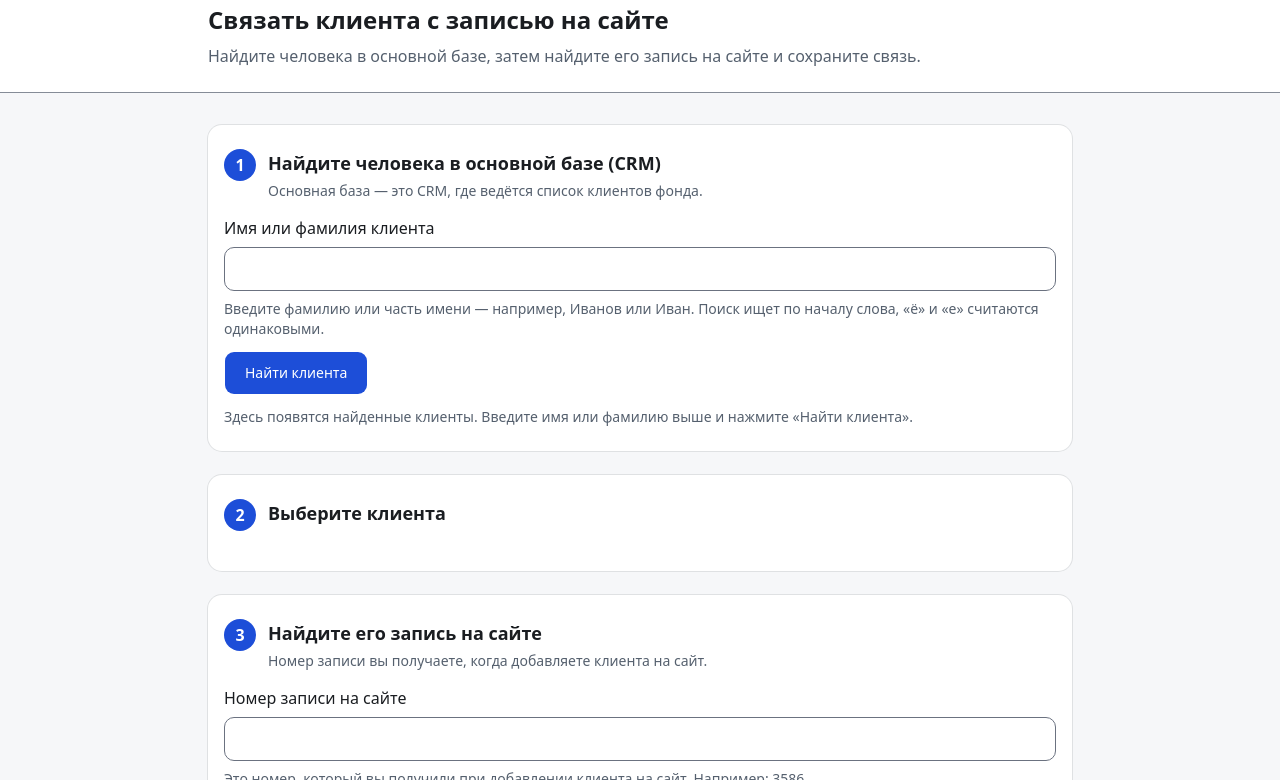
Test: запоздавшие ответы поиска записи на сайте › результат последнего запроса применяется
Type "Иванов" into the field labelled "Имя или фамилия клиента" at (640, 269), box [224,247,1056,291]
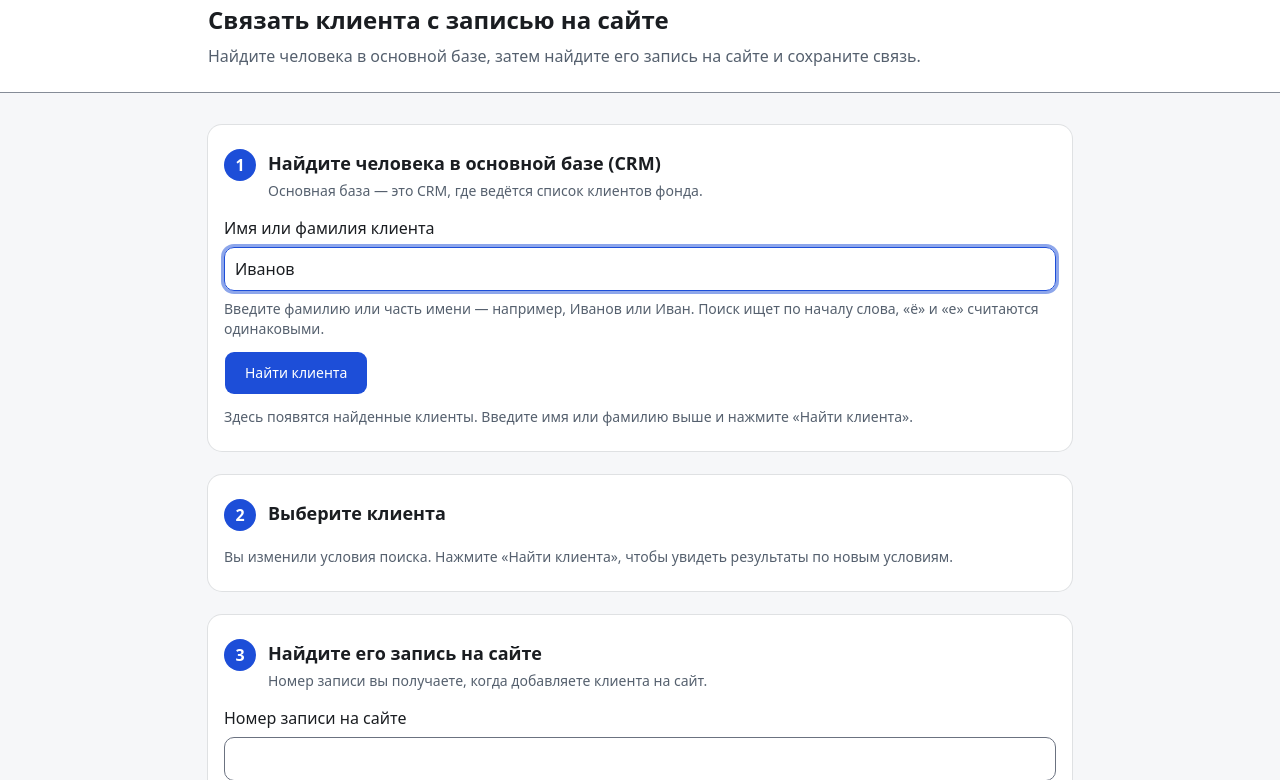
Click the button "Найти клиента" at (296, 373), box [224,351,368,395]
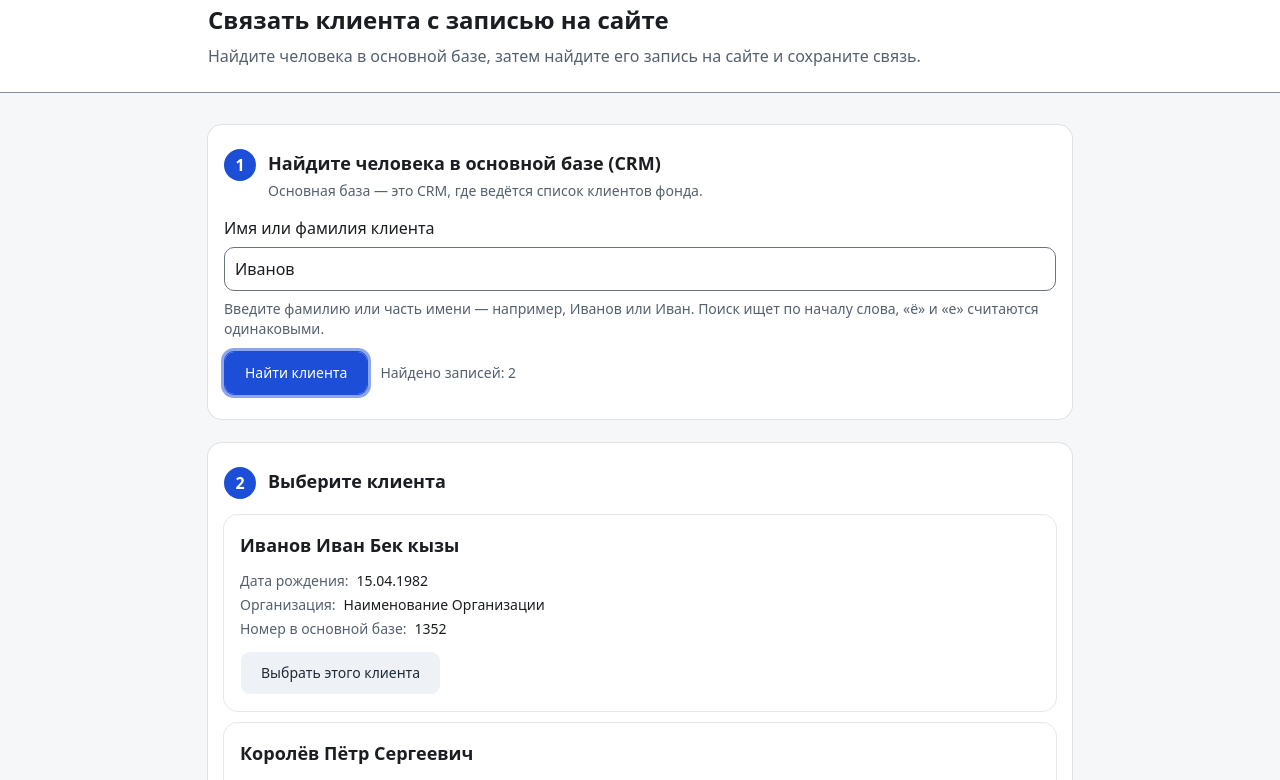
Click the button "Выбрать этого клиента" at (341, 673), box [240,651,441,695]
(page scrolled)
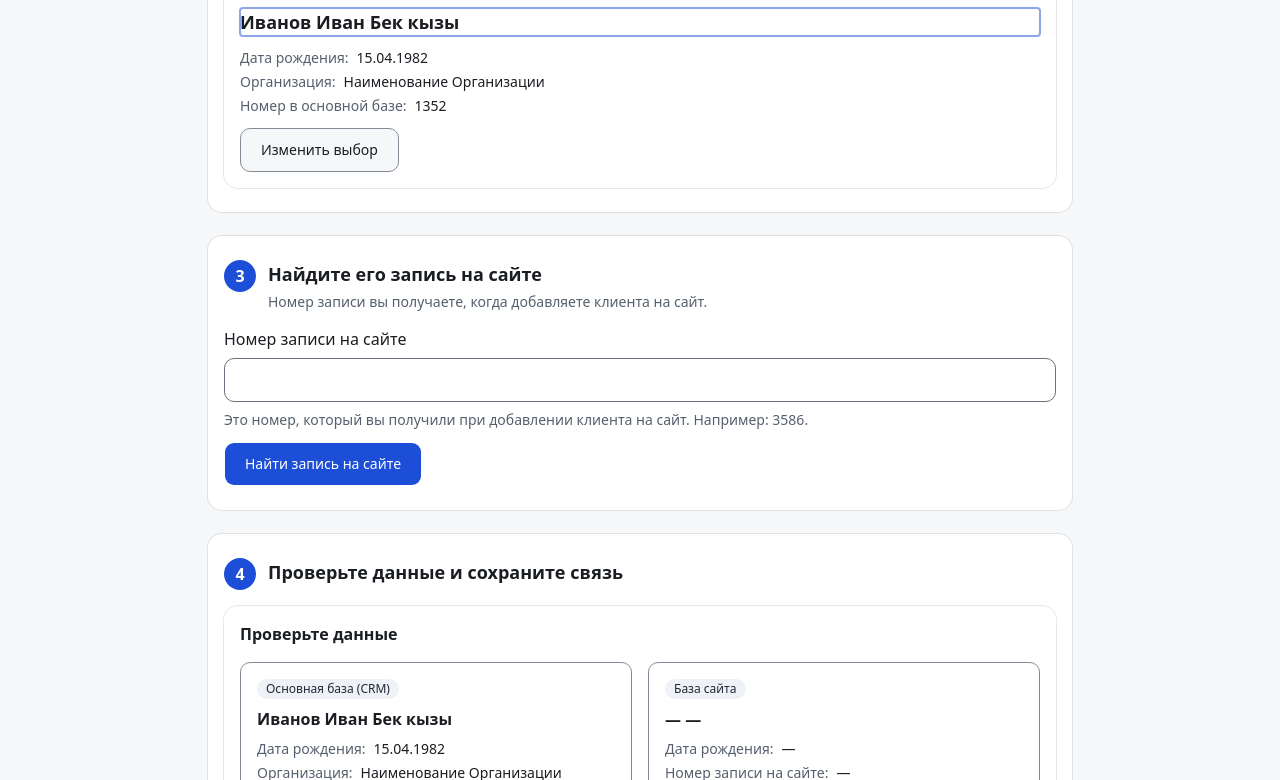
Type "3587" into the field labelled "Номер записи на сайте" at (640, 380), box [224,358,1056,402]
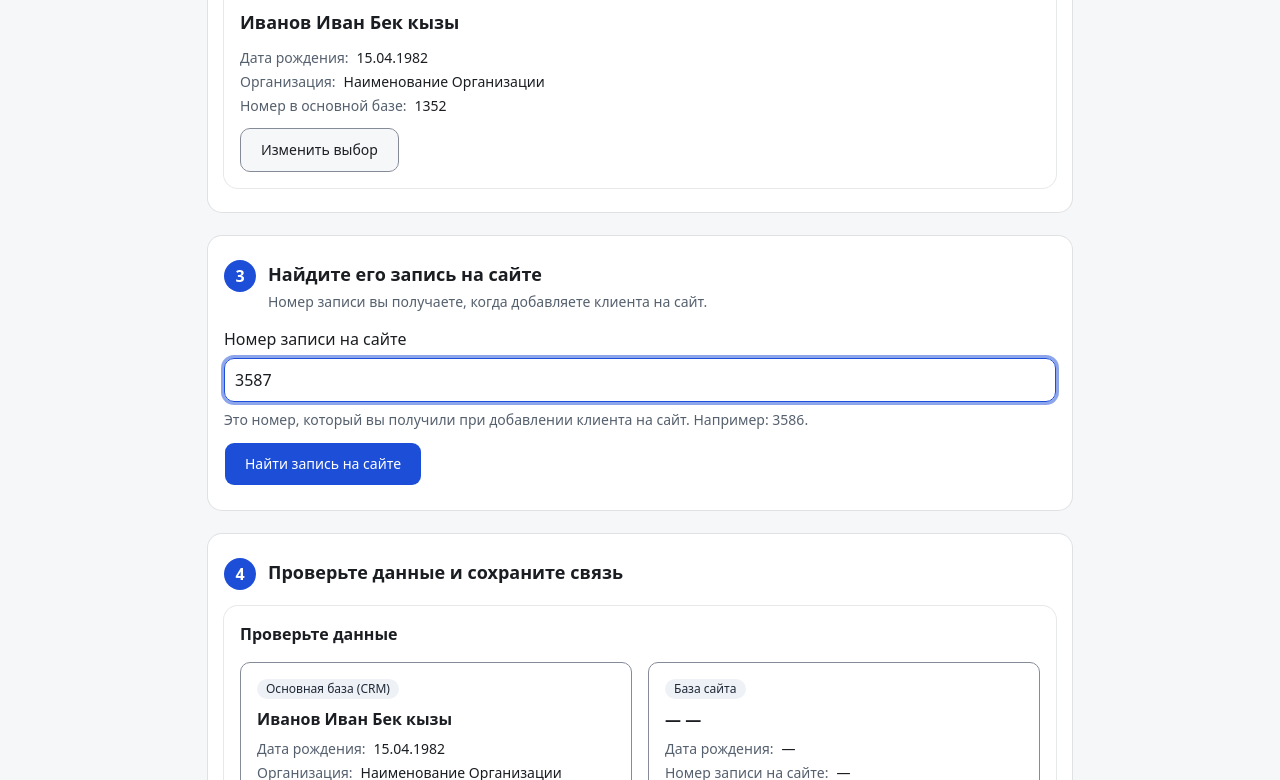
Click the button "Найти запись на сайте" at (323, 464), box [224,442,422,486]
(page scrolled)
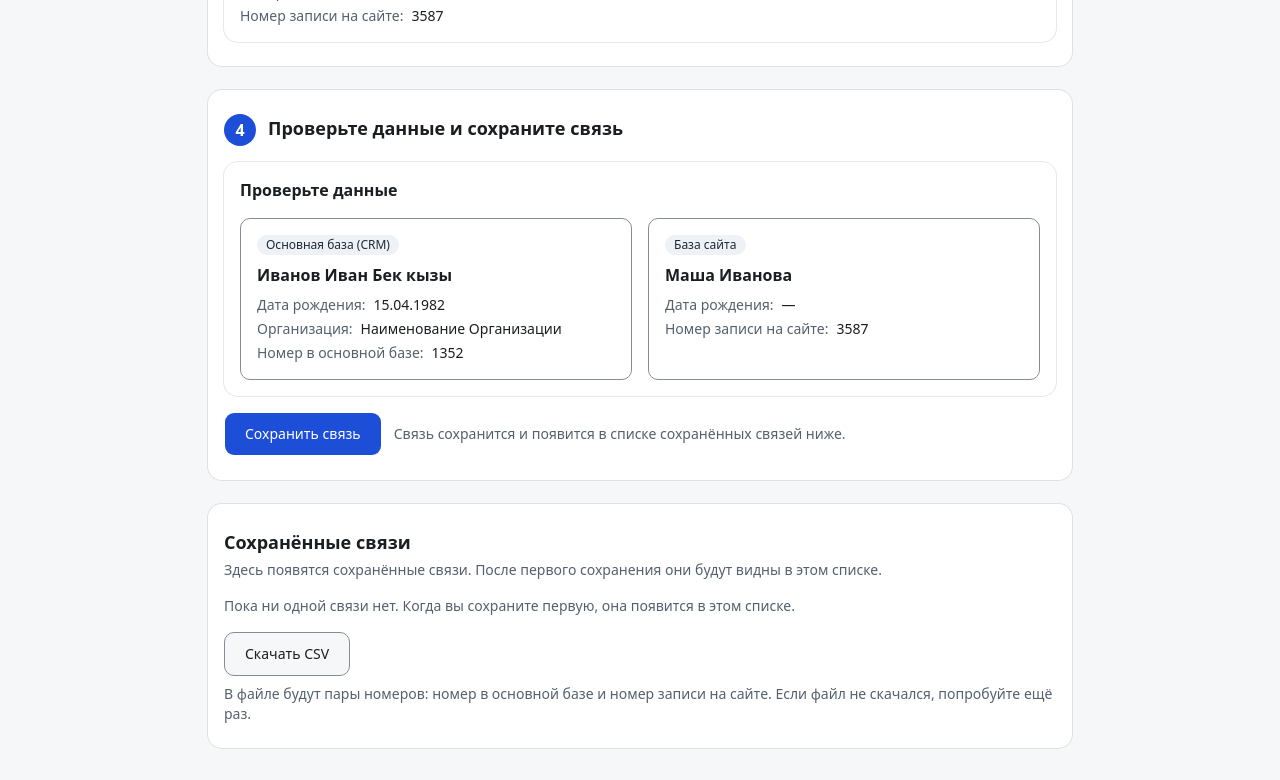
Check: the button "Сохранить связь" is enabled, box [224,412,382,456]
